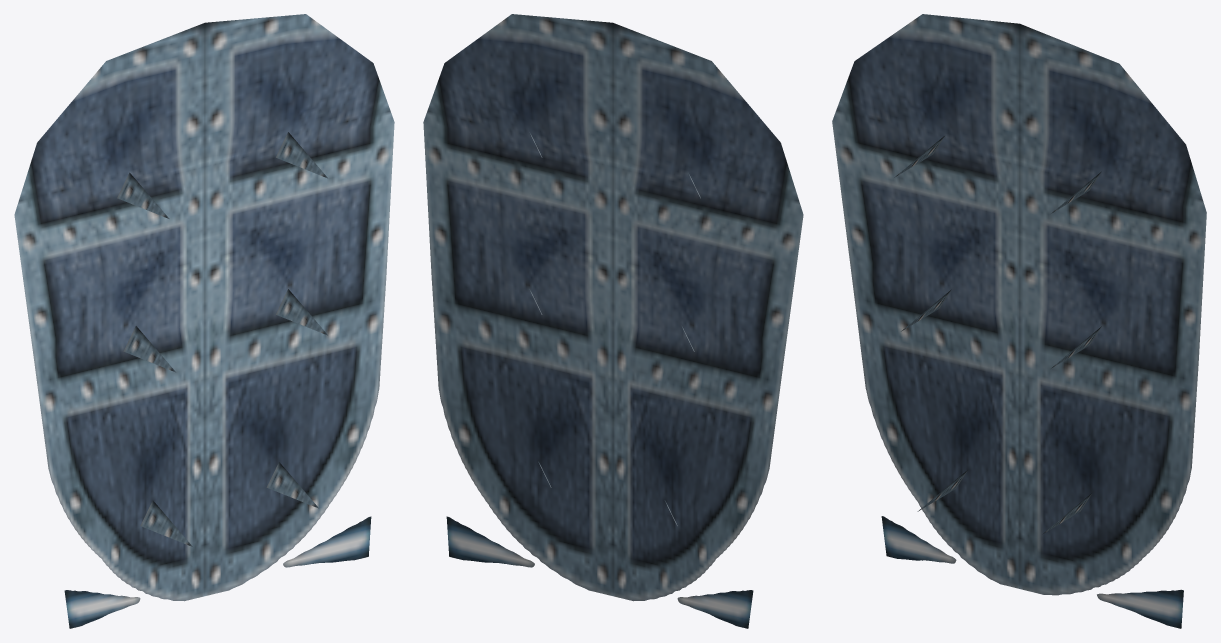
The model's file is gate_02.dae.
3 renders of one model, left to right at view 1: azimuth 30°, elevation 25°; view 2: azimuth 150°, elevation 25°; view 3: azimuth 330°, elevation 25°, orthographic.
Parts seen in each view (by area): view 1: gate00_PIVOT; view 2: gate00_PIVOT; view 3: gate00_PIVOT.
Boxes of the visible parts, left/top/right/bottom form: gate00_PIVOT: left=14, top=14, right=394, bottom=628; gate00_PIVOT: left=423, top=14, right=803, bottom=628; gate00_PIVOT: left=832, top=14, right=1206, bottom=628.
Bounding box in the file's own units: 2.42 × 3.49 × 0.5191.
Materials: 1 (1 with a texture image).
